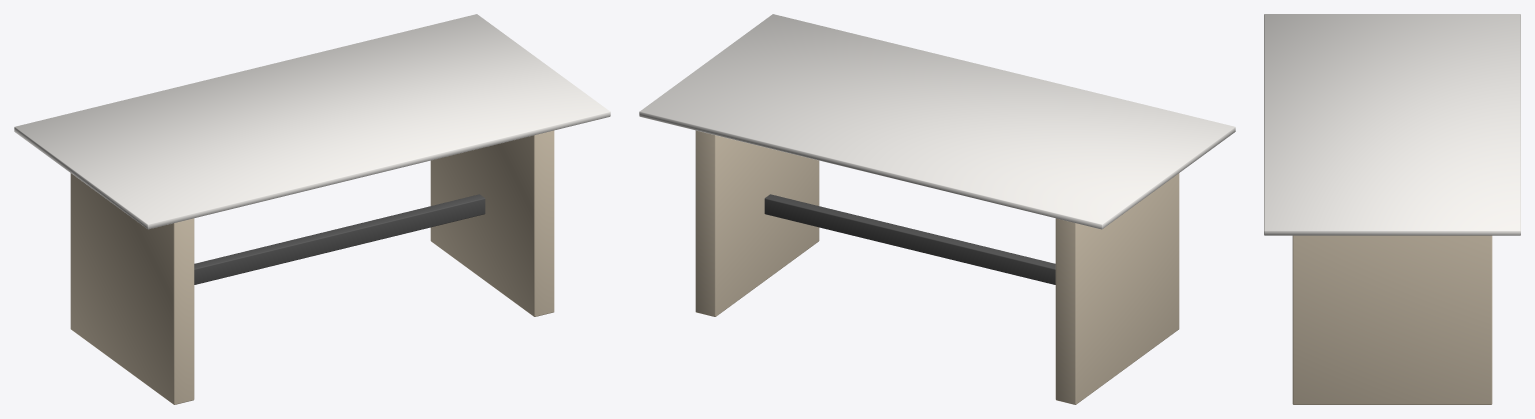
File: mo_dining_table.glb
3 views of the same model, side by side, from view 1: azimuth 30°, elevation 25°; view 2: azimuth 150°, elevation 25°; view 3: azimuth 270°, elevation 25° (orthographic). The views are drawn at different scales.
Visible parts, largest first — view 1: top, leg, leg.001, stretcher; view 2: top, leg, leg.001, stretcher; view 3: top, leg.001.
Part boxes in pixels (left/top/right/bottom): top: left=14, top=14, right=610, bottom=229; leg: left=70, top=173, right=194, bottom=404; leg.001: left=430, top=130, right=554, bottom=316; stretcher: left=194, top=194, right=485, bottom=284; top: left=639, top=14, right=1235, bottom=229; leg: left=1055, top=173, right=1179, bottom=404; leg.001: left=695, top=130, right=819, bottom=316; stretcher: left=764, top=194, right=1055, bottom=284; top: left=1264, top=14, right=1520, bottom=235; leg.001: left=1292, top=235, right=1492, bottom=404.
Bounding box in the file's own units: 1.8 × 0.75 × 0.9.
